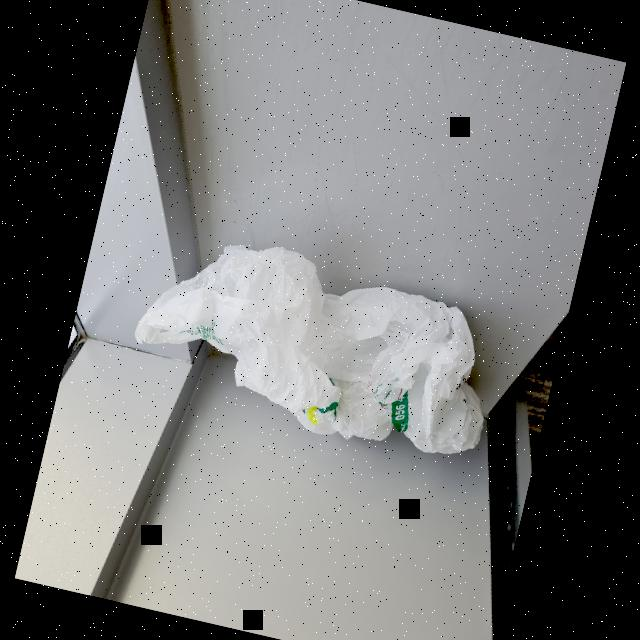plastic_bag: (117, 216, 514, 480)
